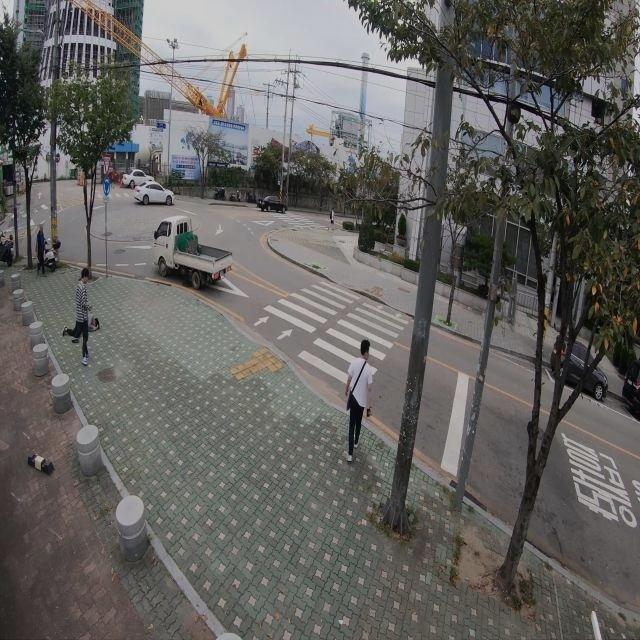non-fight: (344, 337, 374, 462), (62, 267, 98, 364)
